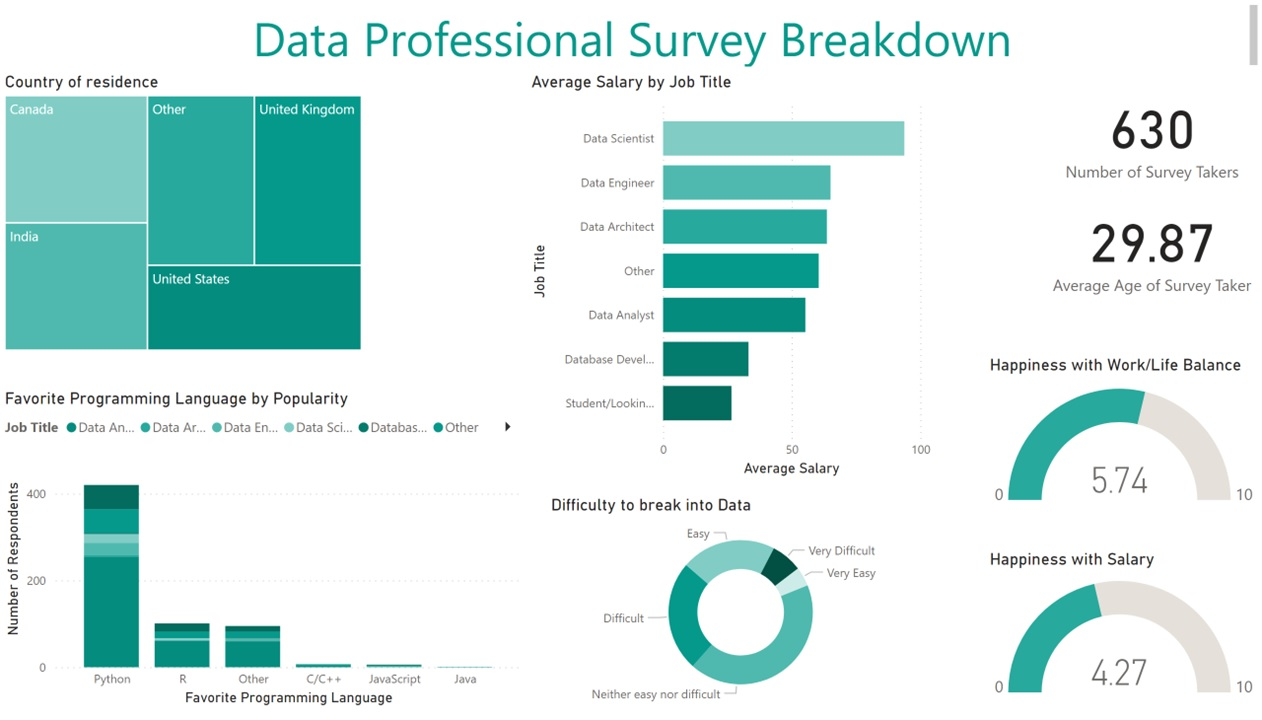

This screenshot's page, from the dashboard's own definition file:
{"tool":"powerbi","page":{"name":"Page 1","canvas":[1280,720],"ordinal":0},"visuals":[{"type":"textbox","box":[9.6,0,1270.7,72.7],"z":0},{"type":"card","fields":{"Values":["CountNonNull(Data Professional Survey.Unique ID)"]},"box":[1060.2,72.9,217.2,124.3],"z":1},{"type":"card","fields":{"Values":["Avg(Data Professional Survey.Q10 - Current Age)"]},"box":[1057.4,197.2,222.9,107.2],"z":2},{"type":"barChart","title":"Average Salary by Job Title","fields":{"Category":["Data Professional Survey.Q1 - Which Title Best Fits your Current Role?"],"Y":["Avg(Data Professional Survey.Average Salary)"],"Series":["Data Professional Survey.Q1 - Which Title Best Fits your Current Role?"]},"box":[534.4,72.9,414.4,414.4],"z":3},{"type":"columnChart","title":"Favorite Programming Language by Popularity","fields":{"Category":["Data Professional Survey.Q5 - Favorite Programming Language"],"Y":["CountNonNull(Data Professional Survey.Unique ID)"],"Series":["Data Professional Survey.Q1 - Which Title Best Fits your Current Role?"]},"box":[0,394.4,534.4,325.8],"z":4},{"type":"treemap","title":"Country of residence","fields":{"Group":["Data Professional Survey.Q11 - Which Country do you live in?.1"],"Values":["Count(Data Professional Survey.Q11 - Which Country do you live in?.1)"]},"box":[0,72.9,371.5,287.2],"z":5},{"type":"gauge","title":"Happiness with Work/Life Balance","fields":{"Y":["Avg(Data Professional Survey.Q6 - How Happy are you in your Current Position with the following? (Work/Life Balance))"],"MinValue":["Min(Data Professional Survey.Q6 - How Happy are you in your Current Position with the following? (Work/Life Balance))"],"MaxValue":["Max(Data Professional Survey.Q6 - How Happy are you in your Current Position with the following? (Work/Life Balance))1"]},"box":[998.8,360.1,281.5,167.2],"z":6},{"type":"gauge","title":"Happiness with Salary","fields":{"Y":["Avg(Data Professional Survey.Q6 - How Happy are you in your Current Position with the following? (Salary))"],"MinValue":["Min(Data Professional Survey.Q6 - How Happy are you in your Current Position with the following? (Salary))"],"MaxValue":["Max(Data Professional Survey.Q6 - How Happy are you in your Current Position with the following? (Salary))"]},"box":[998.8,557.3,281.5,162.9],"z":7},{"type":"donutChart","title":"Difficulty to break into Data","fields":{"Y":["CountNonNull(Data Professional Survey.Q7 - How difficult was it for you to break into Data?)"],"Category":["Data Professional Survey.Q7 - How difficult was it for you to break into Data?"]},"box":[554.4,501.5,394.4,218.6],"z":8}]}

Visuals, with their boxes in screenshot pixels (x1, y1, x2, y2), scaled from the page's 1280x720 canvas onto the 1262x720 screenshot:
textbox: Rect(9, 0, 1261, 73)
card - CountNonNull(Data Professional Survey.Unique ID): Rect(1045, 73, 1259, 197)
card - Avg(Data Professional Survey.Q10 - Current Age): Rect(1043, 197, 1261, 304)
"Average Salary by Job Title" barChart: Rect(527, 73, 935, 487)
"Favorite Programming Language by Popularity" columnChart: Rect(0, 394, 527, 719)
"Country of residence" treemap: Rect(0, 73, 366, 360)
"Happiness with Work/Life Balance" gauge: Rect(985, 360, 1261, 527)
"Happiness with Salary" gauge: Rect(985, 557, 1261, 719)
"Difficulty to break into Data" donutChart: Rect(547, 502, 935, 719)
